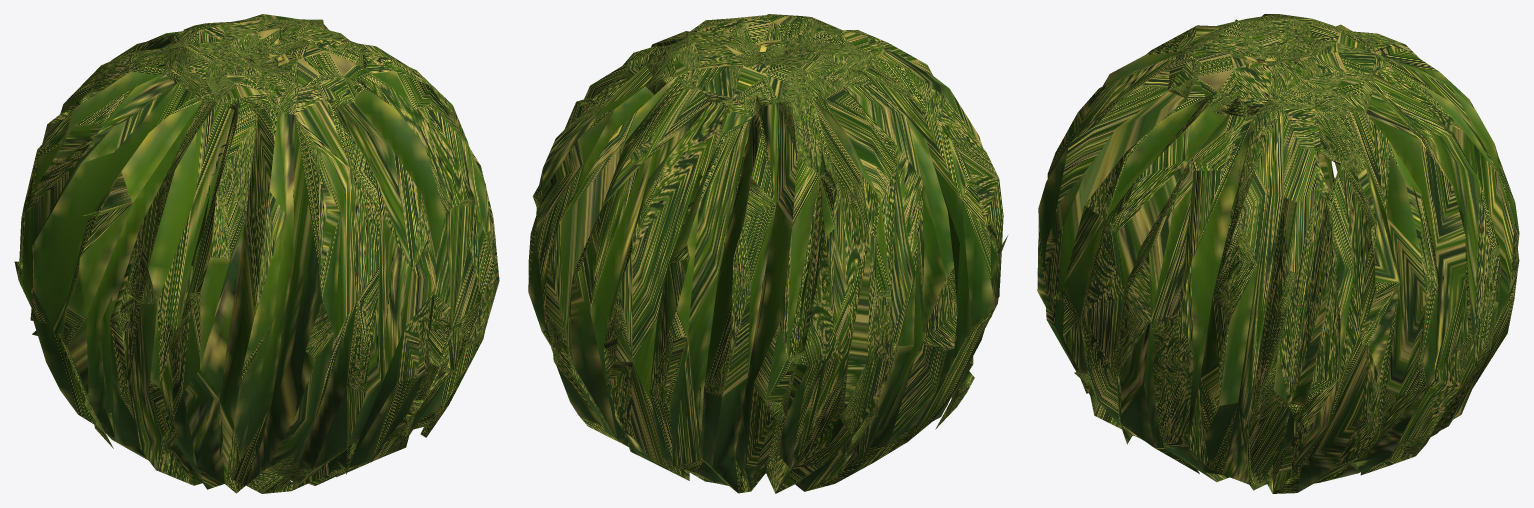
The model's file is golden-barrel-cactus.glb.
3 renders of one model, left to right at view 1: azimuth 30°, elevation 25°; view 2: azimuth 150°, elevation 25°; view 3: azimuth 270°, elevation 25°, orthographic.
Parts seen in each view (by area): view 1: world; view 2: world; view 3: world.
Boxes of the visible parts, <box> form: world: <box>14,14,499,493</box>; world: <box>528,14,1007,493</box>; world: <box>1037,14,1519,493</box>.
Size of the model in its own units: 0.9355 by 0.8747 by 0.942.
1 material, 1 textured.
